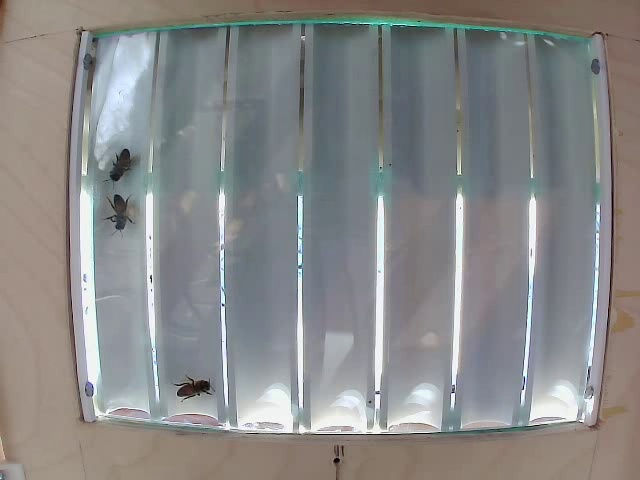bee: (176, 375, 229, 411), (101, 191, 139, 231), (105, 151, 135, 185)
